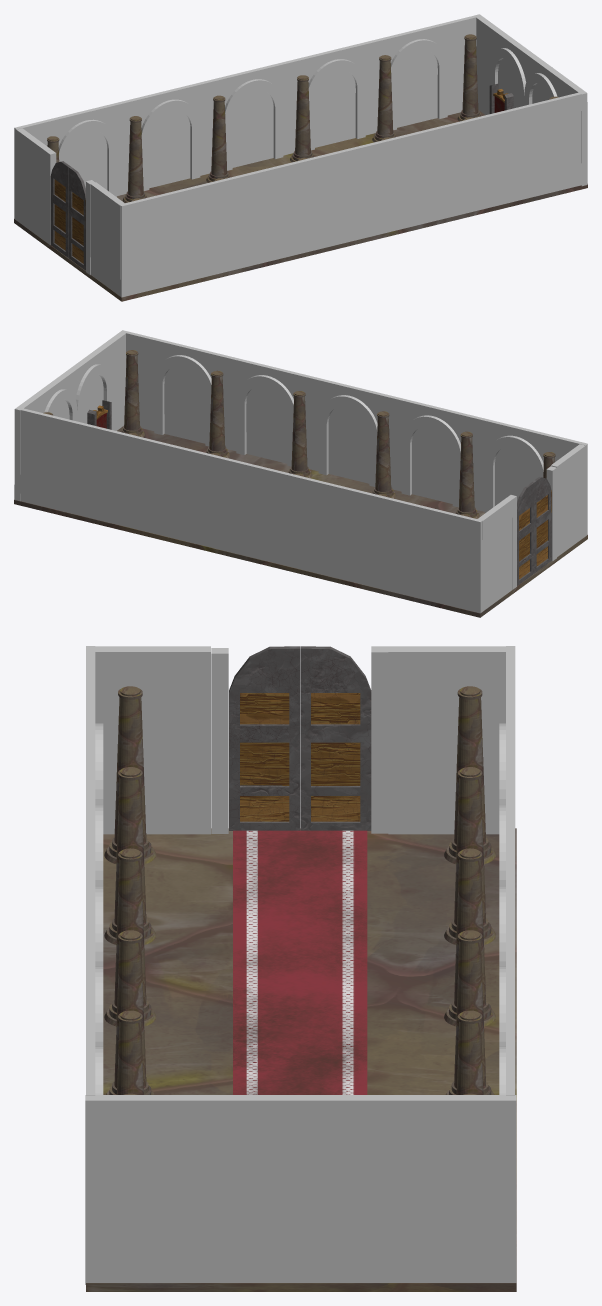
The model's file is BossEnvi.fbx.
3 views of the same model, one above another, from view 1: azimuth 30°, elevation 25°; view 2: azimuth 150°, elevation 25°; view 3: azimuth 270°, elevation 25° (orthographic). The views are drawn at different scales.
Visible parts, largest first — view 1: Plane.002, Plane.003, Plane, Plane.001, Plane.008, Plane.007, Cube.015, Cube.016, Cube.017, Cube.007, Cube.018, Cube.022 (+11 smaller); view 2: Plane.003, Plane.002, Plane, Plane.001, Plane.007, Plane.008, Cube.003, Cube.002, Cube.001, Cube, Cube.022, Cube.007 (+11 smaller); view 3: Plane.001, Plane, Plane.005, Plane.007, Plane.008, Cube.007, Cube.022, Plane.002, Plane.003, Cube.019, Cube.020, Cylinder.001 (+9 smaller).
Boxes of the visible parts, box(x1,y1,x2,y2) form: Plane.002: box(119, 92, 581, 297); Plane.003: box(14, 15, 476, 220); Plane: box(14, 111, 587, 301); Plane.001: box(475, 14, 587, 186); Plane.008: box(90, 182, 124, 295); Plane.007: box(15, 128, 51, 241); Cube.015: box(141, 99, 200, 190); Cube.016: box(225, 79, 283, 170); Cube.017: box(308, 59, 365, 150); Cube.007: box(50, 161, 70, 257); Cube.018: box(391, 39, 447, 130); Cube.022: box(68, 166, 85, 270); Plane.003: box(20, 408, 482, 613); Plane.002: box(125, 331, 587, 536); Plane: box(14, 426, 587, 617); Plane.001: box(14, 330, 126, 501); Plane.007: box(477, 498, 512, 611); Plane.008: box(551, 444, 587, 556); Cube.003: box(401, 415, 460, 507); Cube.002: box(318, 395, 377, 486); Cube.001: box(236, 375, 293, 466); Cube: box(154, 355, 211, 446); Cube.022: box(532, 477, 551, 573); Cube.007: box(517, 482, 533, 585); Plane.001: box(85, 1095, 516, 1284); Plane: box(86, 828, 516, 1291); Plane.005: box(233, 830, 367, 1094); Plane.007: box(388, 646, 505, 834); Plane.008: box(95, 646, 210, 834); Cube.007: box(300, 646, 371, 830); Cube.022: box(229, 646, 299, 830); Plane.002: box(86, 646, 95, 1095); Plane.003: box(506, 646, 515, 1095); Cube.019: box(371, 646, 388, 833); Cube.020: box(211, 648, 228, 833); Cylinder.001: box(104, 848, 156, 1026).
Size of the model in its own units: 10504 by 2053 by 4206.
